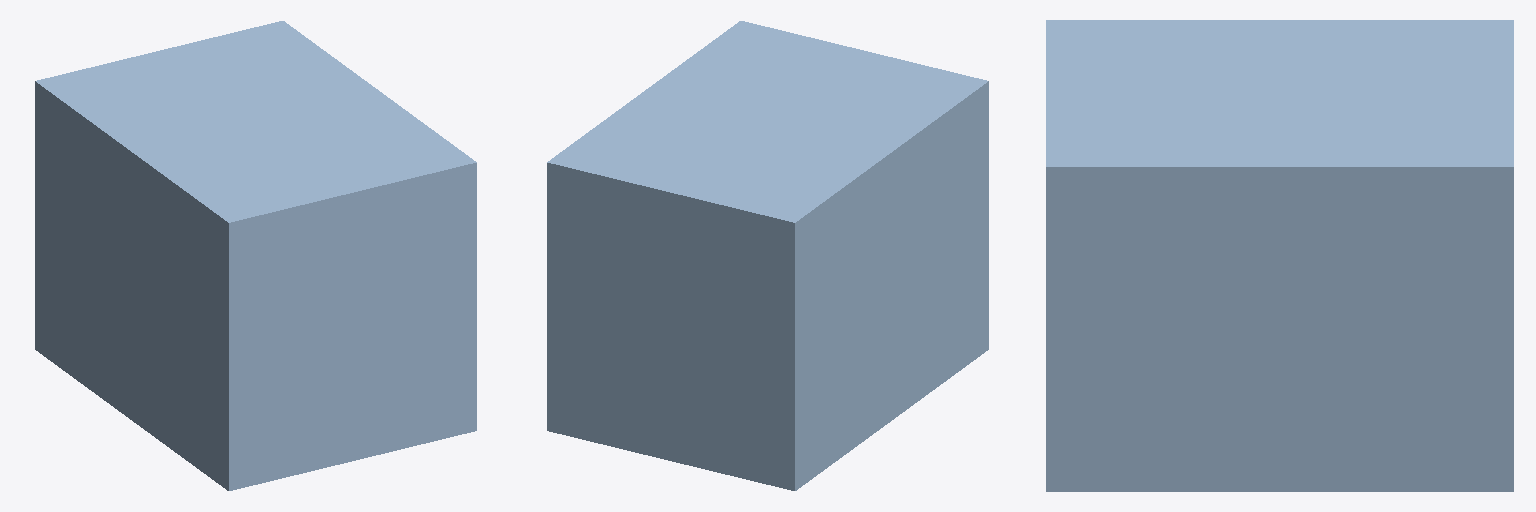
robot.urdf — box_0p4318_0p5840_0p4462:
<?xml version="1.0" ?>
<robot name="box_0p4318_0p5840_0p4462">
  <dynamics damping="0.5" friction="0.9"/>
  <link name="box_0p4318_0p5840_0p4462_link">
    <inertial>
      <mass value="0.1"/>
      <origin xyz="0 0 0"/>
      <inertia ixx="0.002" ixy="0" ixz="0" iyy="0.002" iyz="0" izz="0.002"/>
    </inertial>
    <contact>
      <lateral_friction value="0.9"/>
      <rolling_friction value="0.5"/>
      <stiffness value="30000"/>
      <damping value="1000"/>
    </contact>
    <visual>
      <origin rpy="0 0 0" xyz="0 0 0"/>
      <geometry>
        <mesh filename="box_0p4318_0p5840_0p4462.obj" scale="1.0 1.0 1.0"/>
      </geometry>
      <material name="mat">
        <color rgba="0.7 0.8 0.9 0.7"/>
      </material>
    </visual>
    <collision name="box_0p4318_0p5840_0p4462">
      <origin rpy="0 0 0" xyz="0 0 0"/>
      <geometry>
        <mesh filename="box_0p4318_0p5840_0p4462.obj" scale="1.0 1.0 1.0"/>
      </geometry>
    </collision>
  </link>
</robot>

--- Render facts (derived) ---
3 views of the same robot in one strip: view 1: azimuth 30°, elevation 25°; view 2: azimuth 150°, elevation 25°; view 3: azimuth 270°, elevation 25° (orthographic).
Robot: box_0p4318_0p5840_0p4462 — 1 links, 0 joints (none); root link box_0p4318_0p5840_0p4462_link; default pose: every joint at zero.
Visible links, largest first — view 1: box_0p4318_0p5840_0p4462_link; view 2: box_0p4318_0p5840_0p4462_link; view 3: box_0p4318_0p5840_0p4462_link.
Boxes of the visible links, bbox=[...] form: box_0p4318_0p5840_0p4462_link: bbox=[35, 21, 476, 490]; box_0p4318_0p5840_0p4462_link: bbox=[547, 21, 988, 490]; box_0p4318_0p5840_0p4462_link: bbox=[1046, 20, 1513, 491].
Size in the robot's own frame: 0.4318 by 0.584 by 0.4462 metres.
1 mesh visuals loaded from 1 distinct referenced files (1 OBJ).
